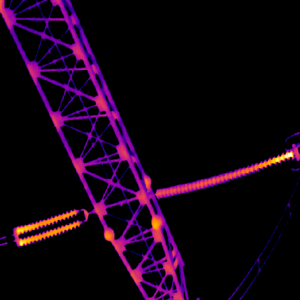insulator: (155, 148, 293, 198), (15, 206, 82, 248)
